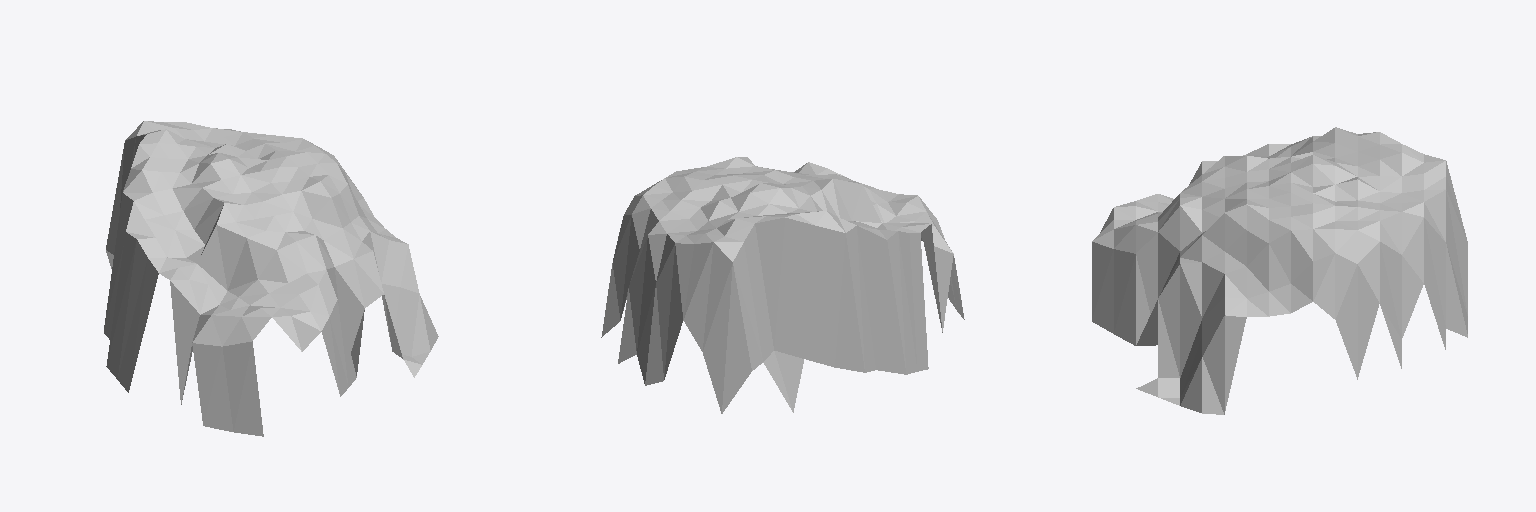
Rendered from tree_7.obj.
3 renders of one model, left to right at view 1: azimuth 30°, elevation 25°; view 2: azimuth 150°, elevation 25°; view 3: azimuth 270°, elevation 25°, orthographic.
Visible parts, largest first — view 1: tree_17; view 2: tree_17; view 3: tree_17.
Boxes of the visible parts, x1=… form: tree_17: x1=104, y1=121, x2=438, y2=436; tree_17: x1=601, y1=157, x2=964, y2=413; tree_17: x1=1092, y1=127, x2=1467, y2=414.
Size of the model in its own units: 15 by 9.1 by 17.